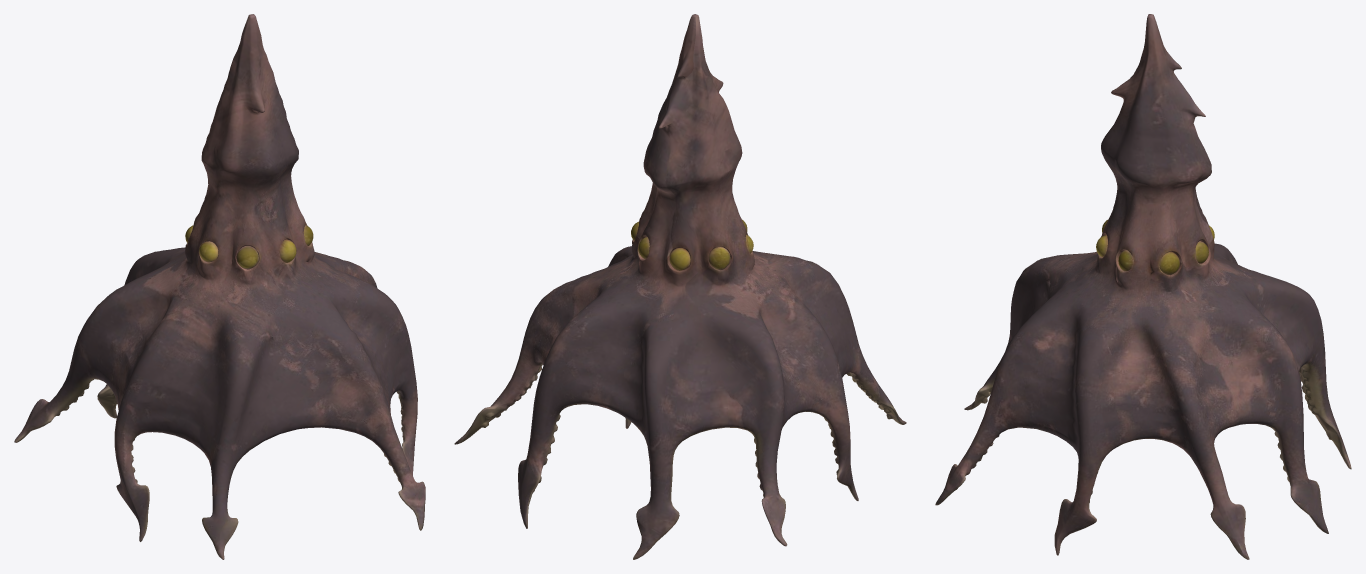
The model's file is MZ4250 - Darkmantle.glb.
3 views of the same model, side by side, from view 1: azimuth 30°, elevation 25°; view 2: azimuth 150°, elevation 25°; view 3: azimuth 270°, elevation 25° (orthographic).
Visible parts, largest first — view 1: default; view 2: default; view 3: default.
Boxes of the visible parts, x1=… form: default: x1=14, y1=14, x2=425, y2=559; default: x1=454, y1=14, x2=906, y2=559; default: x1=935, y1=14, x2=1351, y2=559.
Size of the model in its own units: 0.5957 by 0.7575 by 0.5907.
1 material, 1 textured.
